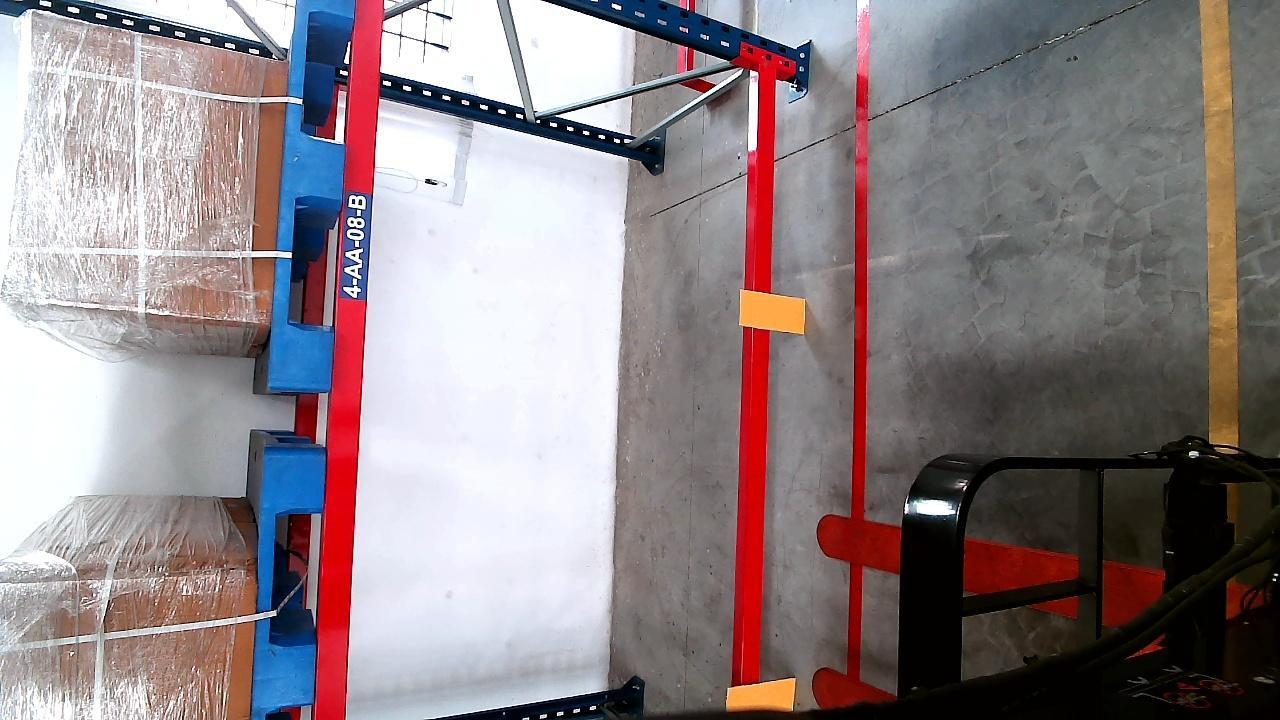red_line: (843, 20, 879, 674)
yellow_line: (1204, 0, 1242, 453)
